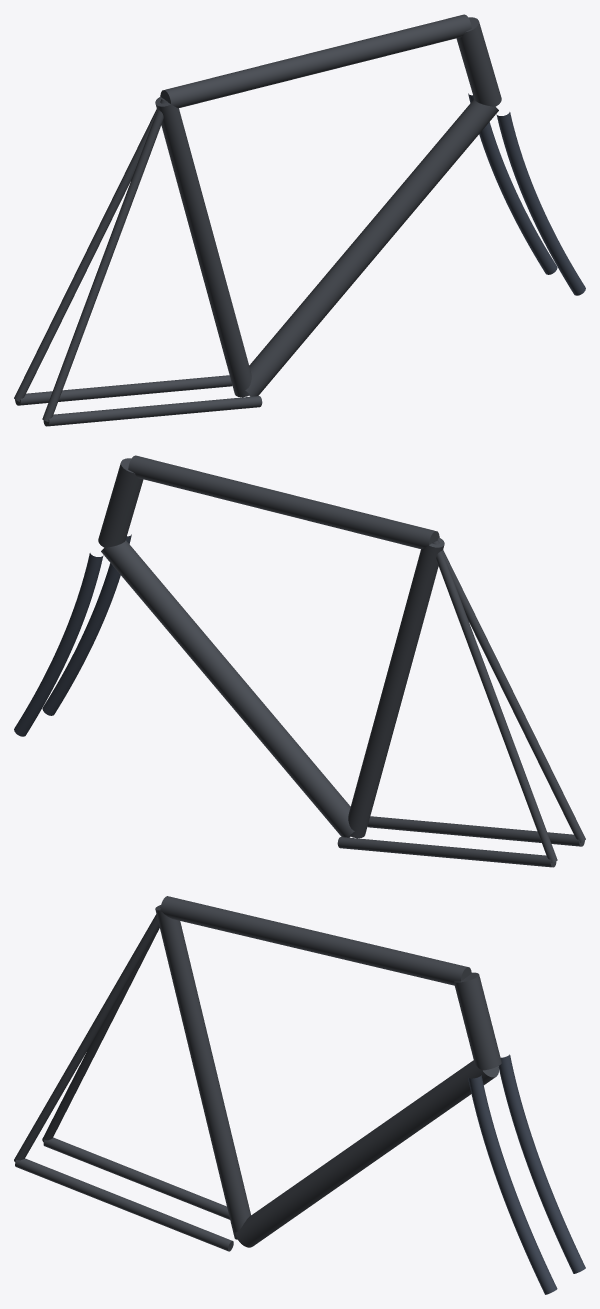
Rendered from skream-magnum-m.glb.
3 renders of one model, top to bottom at view 1: azimuth 30°, elevation 25°; view 2: azimuth 150°, elevation 25°; view 3: azimuth 330°, elevation 25°, orthographic.
Visible parts, largest first — view 1: paint_down, paint_top, paint_seat, paint_seatstay_0.045, fork_0.045, paint_seatstay_-0.045, paint_chainstay_0.045, paint_chainstay_-0.045, fork_-0.045, paint_head; view 2: paint_down, paint_top, paint_seat, paint_seatstay_-0.045, fork_-0.045, paint_seatstay_0.045, paint_chainstay_-0.045, paint_chainstay_0.045, fork_0.045, paint_head; view 3: paint_down, paint_seat, paint_top, fork_0.045, fork_-0.045, paint_chainstay_0.045, paint_seatstay_0.045, paint_head, paint_chainstay_-0.045, paint_seatstay_-0.045.
Part boxes in pixels (left/top/right/bottom): paint_down: left=245, top=99, right=498, bottom=396; paint_top: left=160, top=14, right=471, bottom=108; paint_seat: left=155, top=96, right=251, bottom=397; paint_seatstay_0.045: left=42, top=99, right=167, bottom=421; fork_0.045: left=496, top=112, right=585, bottom=295; paint_seatstay_-0.045: left=14, top=98, right=165, bottom=401; paint_chainstay_0.045: left=43, top=396, right=262, bottom=426; paint_chainstay_-0.045: left=15, top=375, right=232, bottom=405; fork_-0.045: left=468, top=93, right=557, bottom=274; paint_head: left=456, top=17, right=501, bottom=106; paint_down: left=101, top=540, right=354, bottom=837; paint_top: left=128, top=455, right=439, bottom=549; paint_seat: left=348, top=537, right=444, bottom=838; paint_seatstay_-0.045: left=432, top=540, right=557, bottom=862; fork_-0.045: left=14, top=553, right=103, bottom=736; paint_seatstay_0.045: left=434, top=539, right=585, bottom=842; paint_chainstay_-0.045: left=337, top=837, right=556, bottom=867; paint_chainstay_0.045: left=367, top=816, right=584, bottom=846; fork_0.045: left=42, top=534, right=131, bottom=715; paint_head: left=98, top=458, right=143, bottom=547; paint_down: left=235, top=1060, right=498, bottom=1247; paint_seat: left=155, top=905, right=250, bottom=1239; paint_top: left=160, top=896, right=471, bottom=985; fork_0.045: left=468, top=1075, right=557, bottom=1294; fork_-0.045: left=498, top=1054, right=585, bottom=1273; paint_chainstay_0.045: left=15, top=1158, right=233, bottom=1251; paint_seatstay_0.045: left=14, top=907, right=160, bottom=1161; paint_head: left=454, top=972, right=501, bottom=1070; paint_chainstay_-0.045: left=43, top=1137, right=229, bottom=1219; paint_seatstay_-0.045: left=42, top=926, right=159, bottom=1141.
Size of the model in its own units: 0.9898 by 0.5776 by 0.112.
